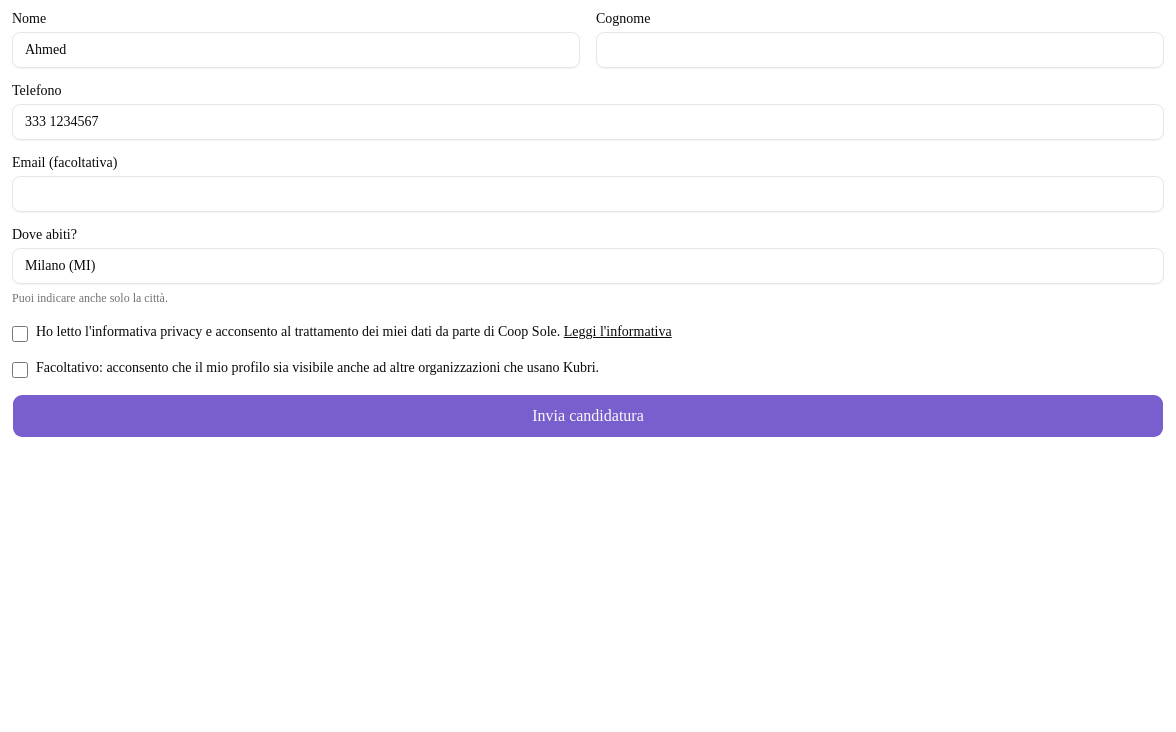
Test: ContactForm › rejects an invalid phone
This screenshot has width=1176, height=732.
Step 1. Replace the text in the field labelled "Telefono" with "12" → x=588, y=122, box [12,104,1164,140]
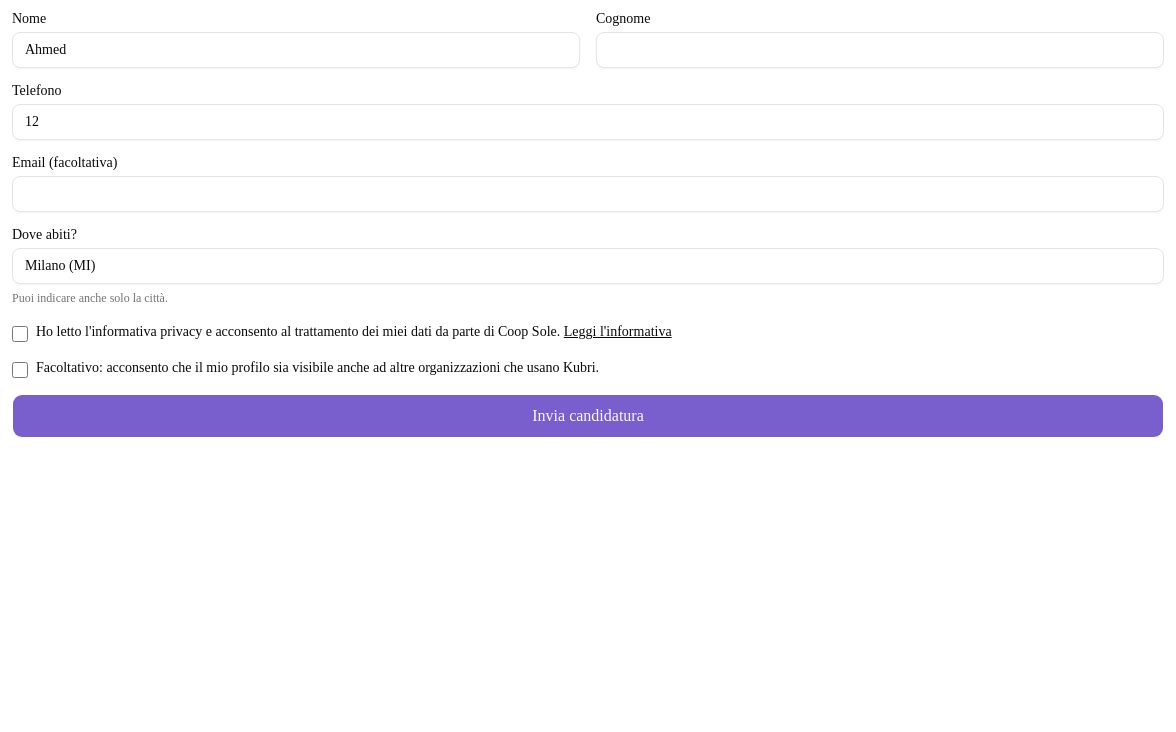
Step 2. Click the button "Invia candidatura" → x=588, y=416, box [12,394,1164,438]
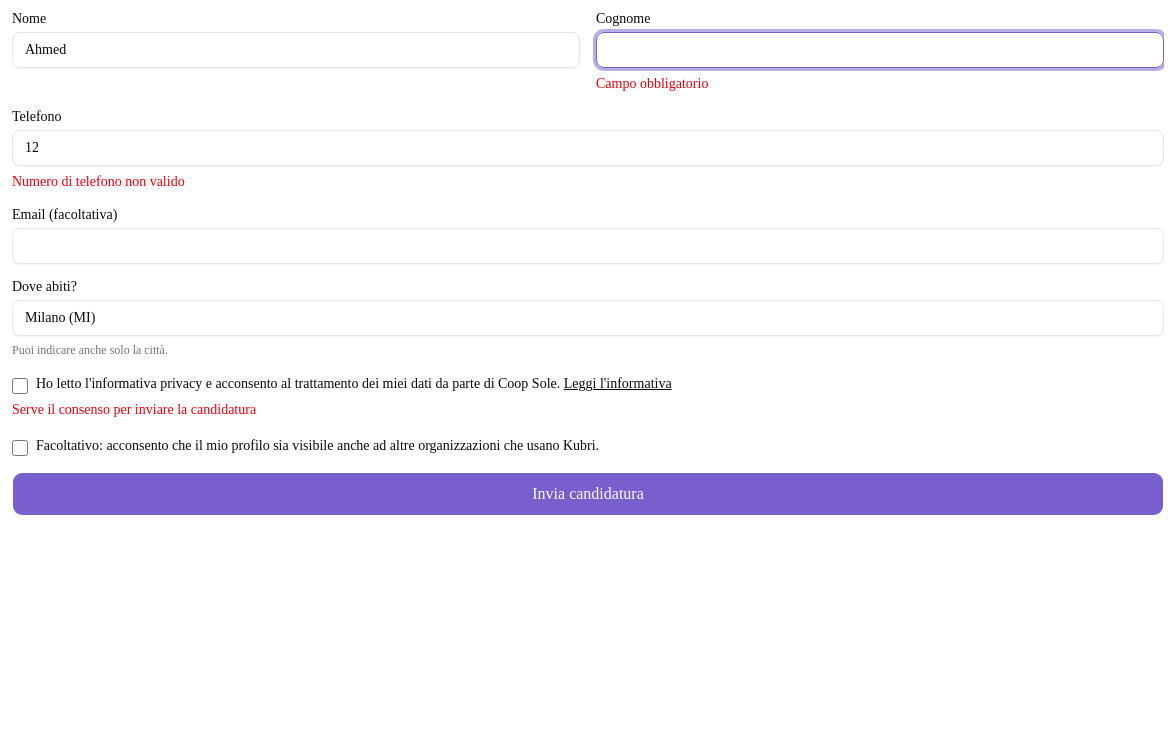
Check: the text "Numero di telefono non valido" is shown, box [12,174,185,189]
